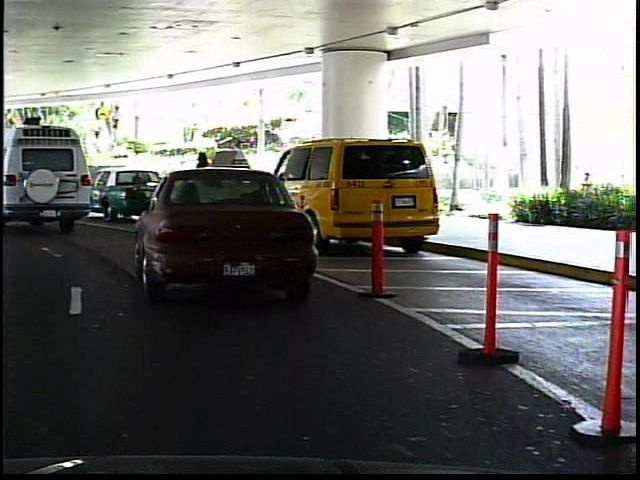person: (189, 146, 217, 215), (225, 142, 251, 211), (69, 151, 91, 200), (7, 158, 27, 197)
